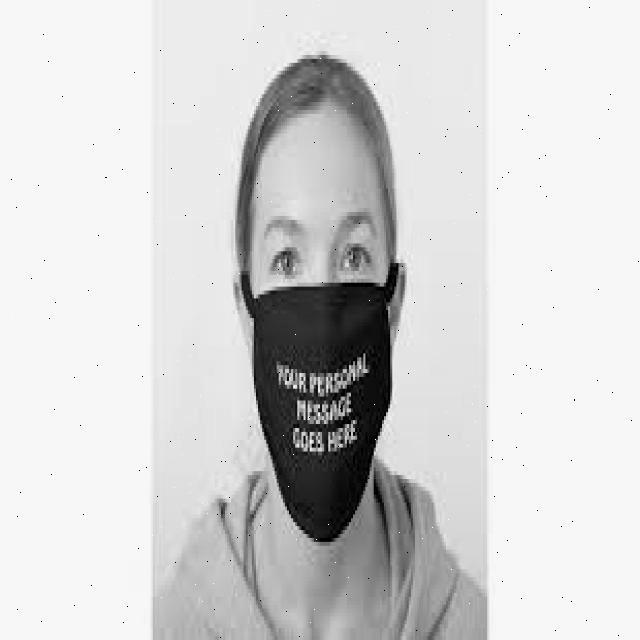fake: (234, 250, 416, 555)
real: (252, 110, 392, 559)
